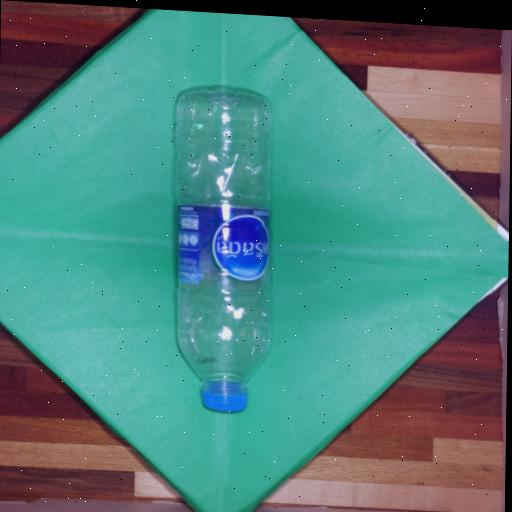bottle: (175, 91, 270, 412)
